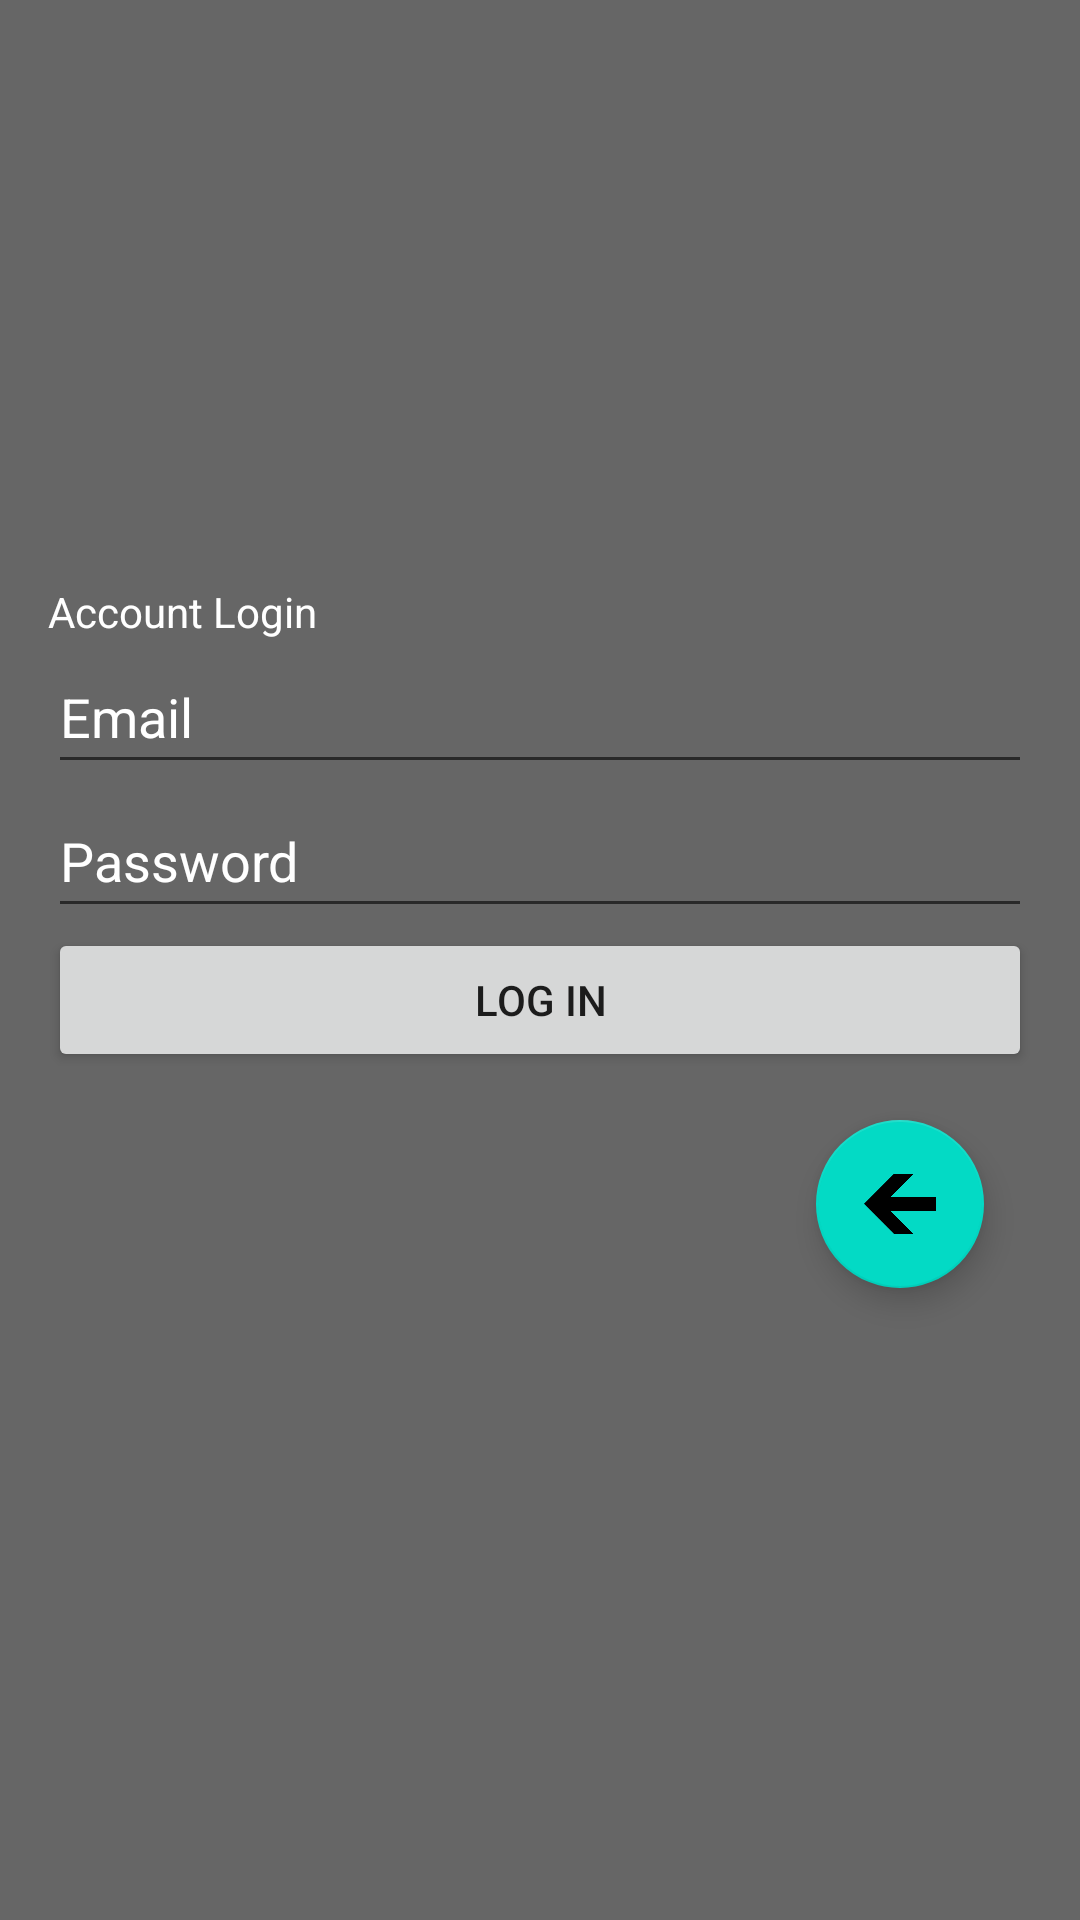

Named icons in this screenshot (1080w x 1920h) and their centers, point (x, y):
left arrow: point (900, 1204)
